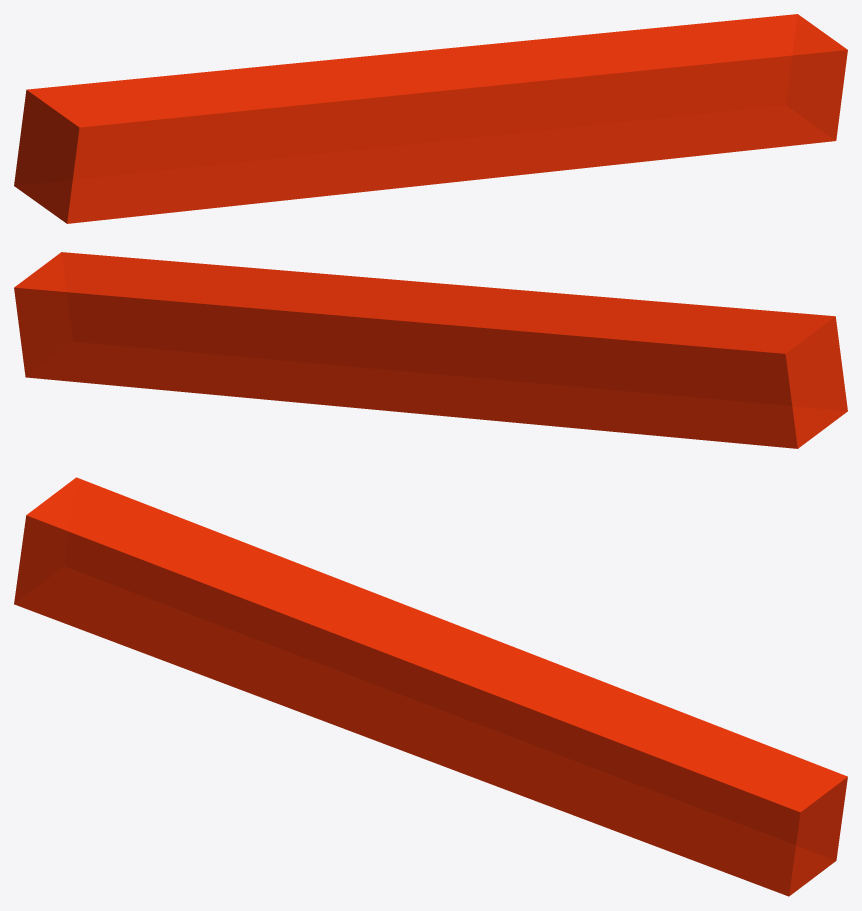
Rendered from Event_421556567_EErechit_3.fbx.
The picture shows the model from 3 angles, top to bottom: view 1: azimuth 30°, elevation 25°; view 2: azimuth 150°, elevation 25°; view 3: azimuth 330°, elevation 25°; orthographic projection.
Parts seen in each view (by area): view 1: Model; view 2: Model; view 3: Model.
Boxes of the visible parts, x1,y1,x2,y2 form: Model: [14, 14, 847, 223]; Model: [14, 252, 847, 448]; Model: [14, 477, 847, 896].
Bounding box in the file's own units: 0.6737 × 0.1682 × 0.0852.
